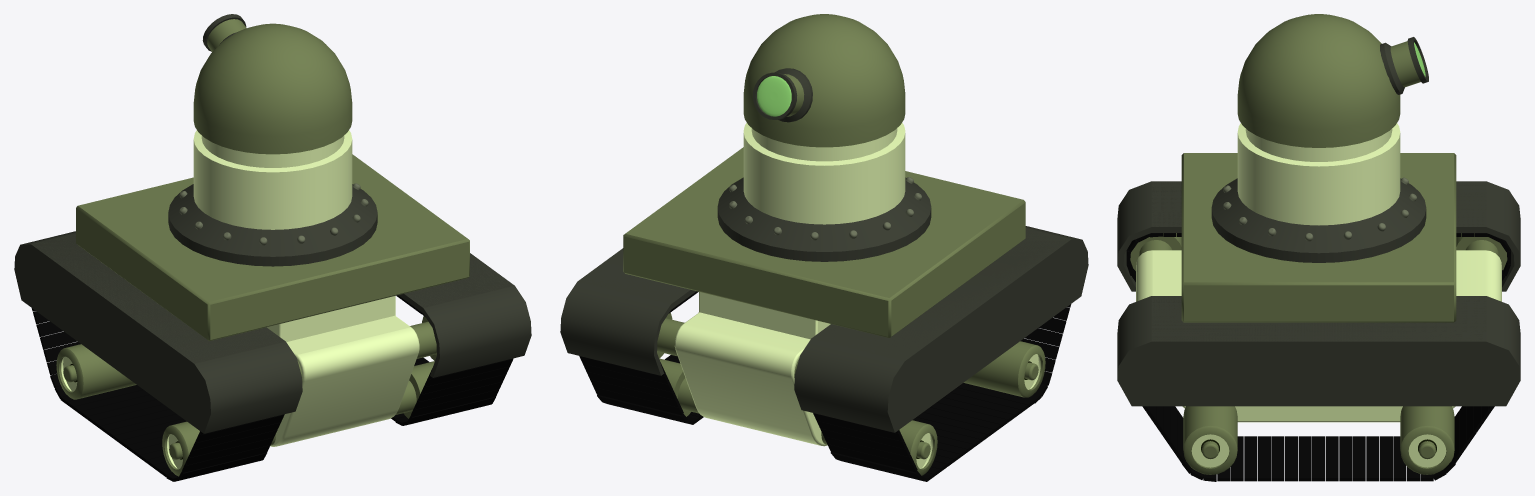
The model's file is Model_Prop_Enemy_Tank.fbx.
3 renders of one model, left to right at view 1: azimuth 30°, elevation 25°; view 2: azimuth 150°, elevation 25°; view 3: azimuth 270°, elevation 25°, orthographic. The views are drawn at different scales.
Parts seen in each view (by area): view 1: Model_Player_EnemyBot_Body, Model_Player_EnemyBot_Head; view 2: Model_Player_EnemyBot_Body, Model_Player_EnemyBot_Head; view 3: Model_Player_EnemyBot_Body, Model_Player_EnemyBot_Head.
Part boxes in pixels (x1,y1,x2,y2): Model_Player_EnemyBot_Body: [14, 130, 531, 481]; Model_Player_EnemyBot_Head: [193, 14, 352, 154]; Model_Player_EnemyBot_Body: [560, 123, 1088, 481]; Model_Player_EnemyBot_Head: [743, 14, 905, 147]; Model_Player_EnemyBot_Body: [1117, 123, 1520, 481]; Model_Player_EnemyBot_Head: [1237, 14, 1428, 147].
Size of the model in its own units: 700 by 778 by 744.
